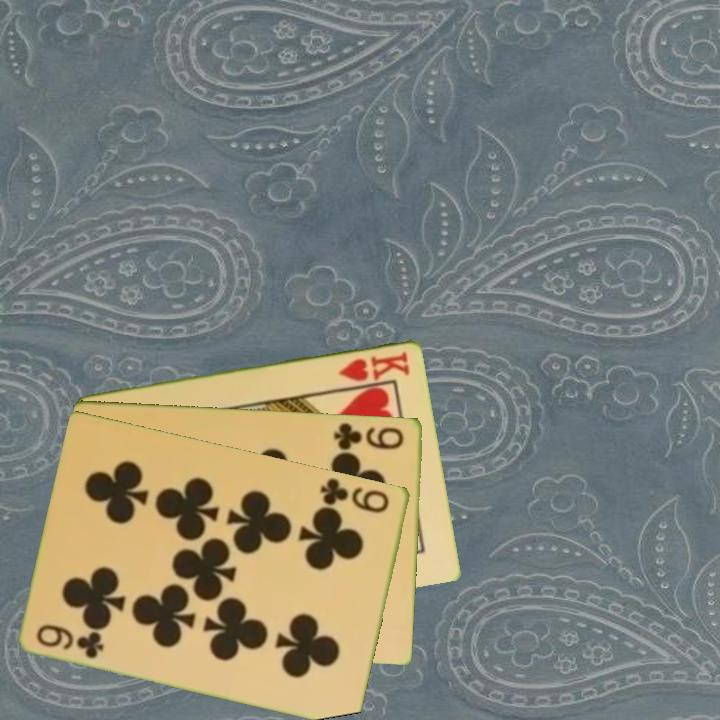9c: (317, 474, 393, 516), (33, 620, 108, 662), (330, 419, 407, 452)
Kh: (336, 347, 413, 384)
